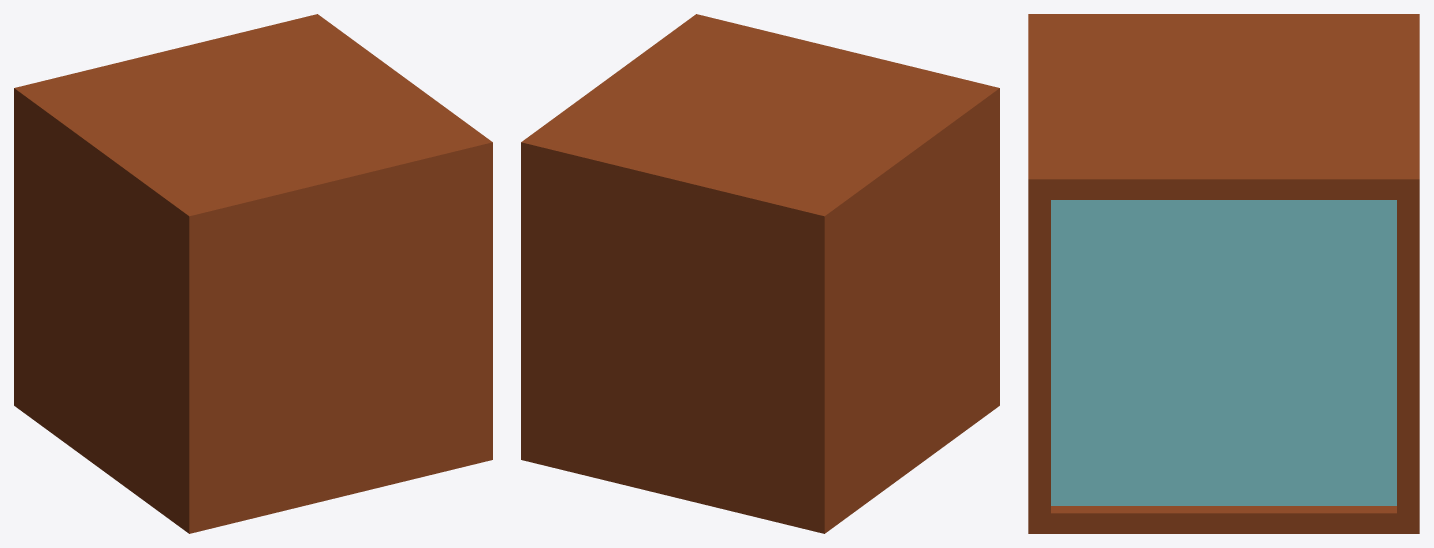
File: case.glb
3 renders of one model, left to right at view 1: azimuth 30°, elevation 25°; view 2: azimuth 150°, elevation 25°; view 3: azimuth 270°, elevation 25°, orthographic. The views are drawn at different scales.
Parts seen in each view (by area): view 1: Base; view 2: Base; view 3: Glass, Base.
Part boxes in pixels (left/top/right/bottom): Base: left=14, top=14, right=492, bottom=533; Base: left=521, top=14, right=999, bottom=533; Glass: left=1051, top=200, right=1396, bottom=505; Base: left=1028, top=14, right=1419, bottom=533.
Bounding box in the file's own units: 2.2 × 2.2 × 2.2.
